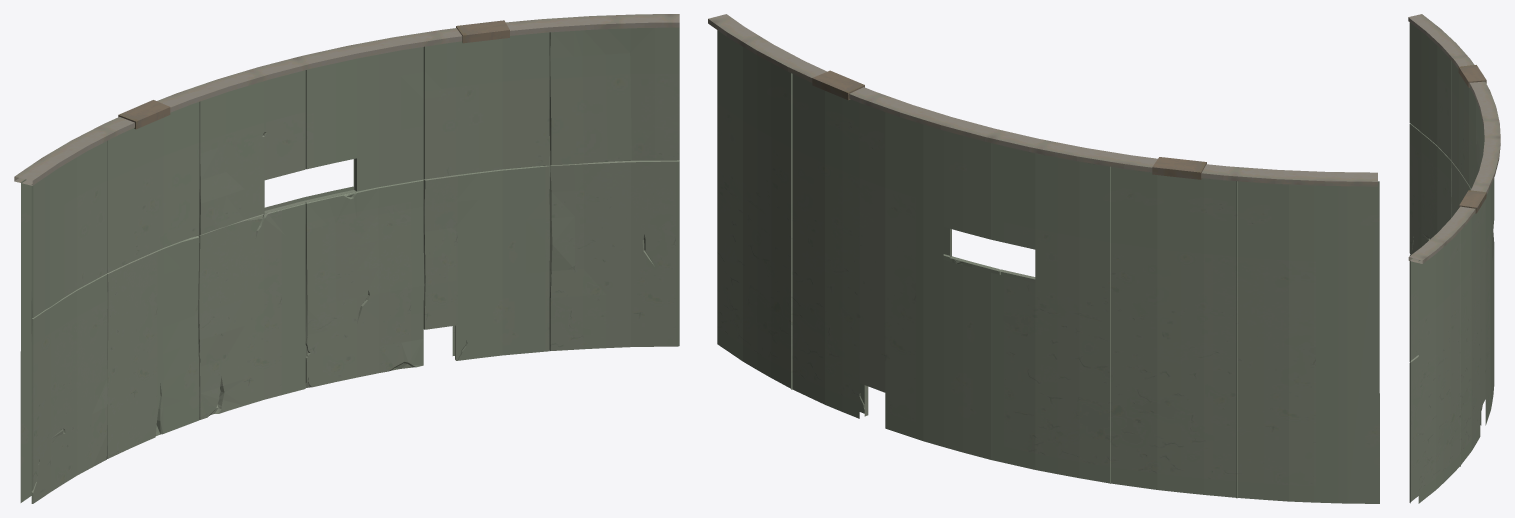
Rendered from SM_ENV_TCHEXA_ArenaWall_B.fbx.
3 renders of one model, left to right at view 1: azimuth 30°, elevation 25°; view 2: azimuth 150°, elevation 25°; view 3: azimuth 270°, elevation 25°, orthographic. The views are drawn at different scales.
Visible parts, largest first — view 1: SM_ENV_TCHEXA_ArenaWall_B.mo; view 2: SM_ENV_TCHEXA_ArenaWall_B.mo; view 3: SM_ENV_TCHEXA_ArenaWall_B.mo.
Part boxes in pixels (box(x1,y1,x2,y2)): SM_ENV_TCHEXA_ArenaWall_B.mo: box(14, 14, 679, 503); SM_ENV_TCHEXA_ArenaWall_B.mo: box(708, 14, 1379, 503); SM_ENV_TCHEXA_ArenaWall_B.mo: box(1408, 14, 1500, 503).
Bounding box in the file's own units: 6451 × 3016 × 1024.
